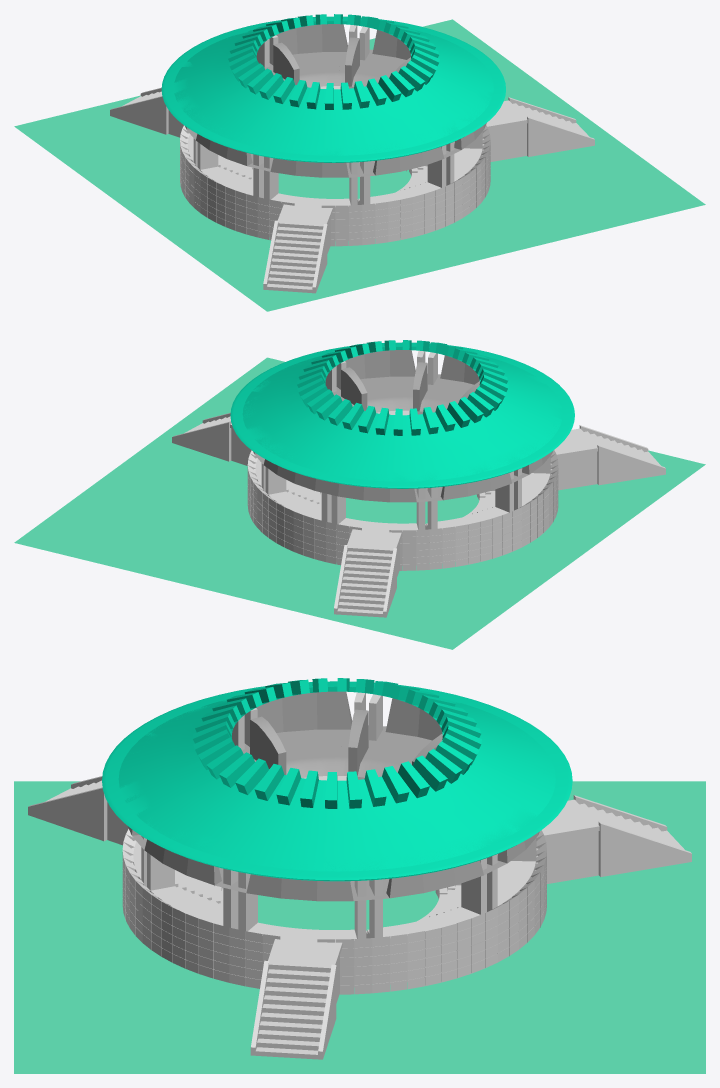
The model's file is stadium_green.fbx.
3 views of the same model, one above another, from view 1: azimuth 30°, elevation 25°; view 2: azimuth 150°, elevation 25°; view 3: azimuth 270°, elevation 25° (orthographic). The views are drawn at different scales.
Visible parts, largest first — view 1: ten_ten2, Cylinder001, Cylinder002, Box001, LTypeStair002, Box003, LTypeStair003, Box002, Box007, LTypeStair001, Box004; view 2: ten_ten2, Cylinder001, Cylinder002, Box004, LTypeStair001, LTypeStair002, Box008, Box009, Box003, LTypeStair003, Box005; view 3: ten_ten2, Cylinder001, Cylinder002, Box005, LTypeStair003, LTypeStair001, Box007, Box006, Box008, LTypeStair002, Box001.
Boxes of the visible parts, left/top/right/bottom form: ten_ten2: left=14, top=19, right=705, bottom=311; Cylinder001: left=161, top=14, right=505, bottom=162; Cylinder002: left=185, top=24, right=486, bottom=177; Box001: left=357, top=145, right=454, bottom=245; LTypeStair002: left=263, top=204, right=332, bottom=293; Box003: left=189, top=142, right=263, bottom=237; LTypeStair003: left=486, top=97, right=594, bottom=161; Box002: left=257, top=156, right=362, bottom=246; Box007: left=395, top=132, right=490, bottom=222; LTypeStair001: left=110, top=87, right=183, bottom=137; Box004: left=180, top=125, right=253, bottom=202; ten_ten2: left=14, top=357, right=705, bottom=649; Cylinder001: left=230, top=340, right=574, bottom=488; Cylinder002: left=253, top=350, right=552, bottom=502; Box004: left=425, top=471, right=521, bottom=569; LTypeStair001: left=334, top=529, right=401, bottom=617; LTypeStair002: left=554, top=425, right=665, bottom=490; Box008: left=257, top=467, right=331, bottom=561; Box009: left=325, top=488, right=429, bottom=570; Box003: left=464, top=456, right=558, bottom=547; LTypeStair003: left=172, top=412, right=251, bottom=465; Box005: left=247, top=450, right=321, bottom=527; ten_ten2: left=14, top=781, right=705, bottom=1073; Cylinder001: left=102, top=678, right=572, bottom=881; Cylinder002: left=128, top=691, right=539, bottom=901; Box005: left=366, top=858, right=497, bottom=993; LTypeStair003: left=250, top=938, right=342, bottom=1059; LTypeStair001: left=542, top=795, right=691, bottom=883; Box007: left=135, top=852, right=238, bottom=982; Box006: left=229, top=872, right=372, bottom=994; Box008: left=417, top=838, right=546, bottom=962; LTypeStair002: left=28, top=776, right=128, bottom=845; Box001: left=122, top=829, right=223, bottom=935.
Bounding box in the file's own units: 10 × 3.1 × 10.
